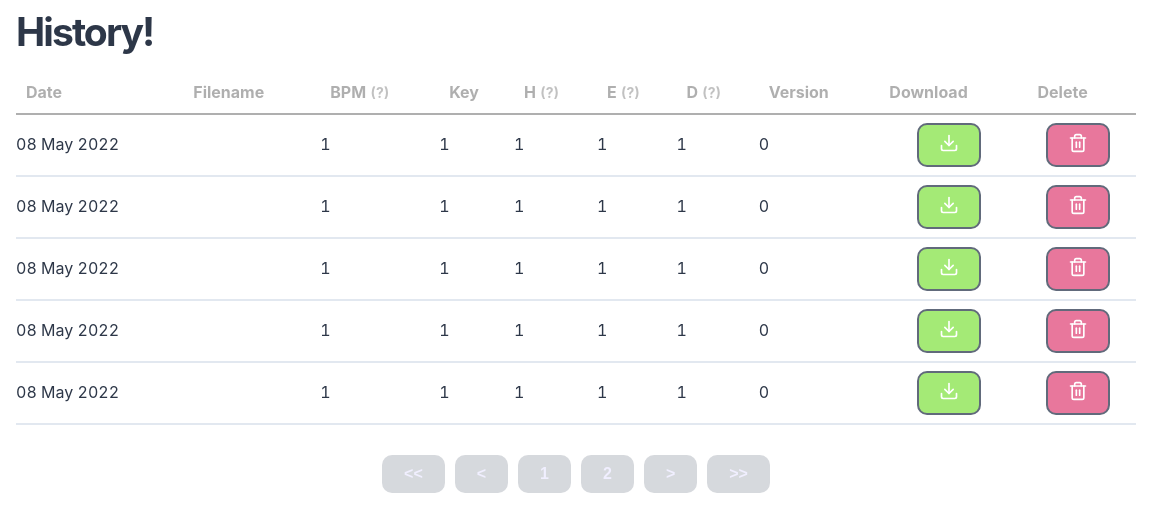
Test case: History authorized › Check upload and pagination
Click the button "2" at (607, 474), box [581,455,634,493]
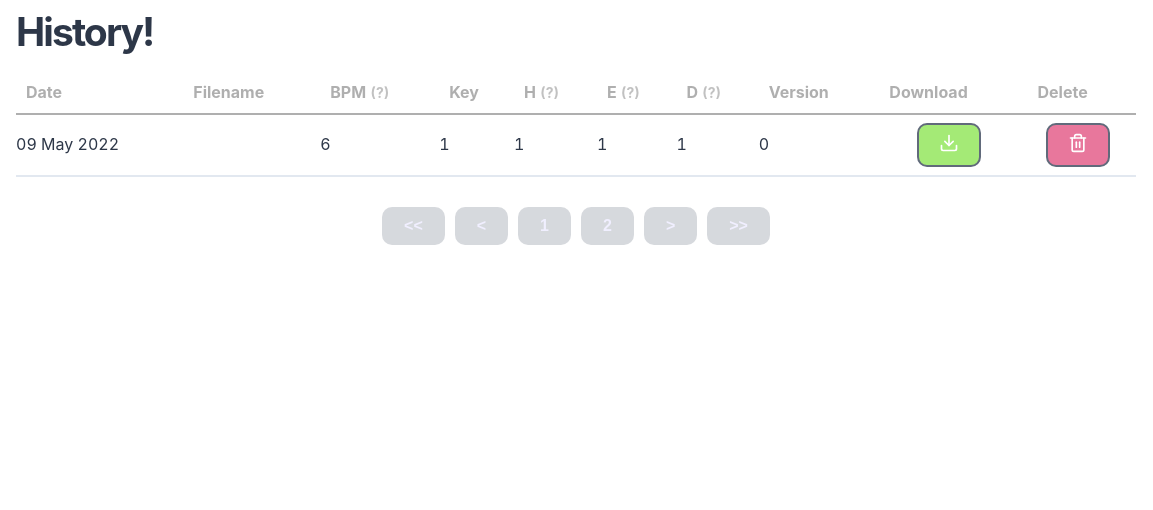
Check: the text "09 May 2022" is shown, box [16,115,183,177]
